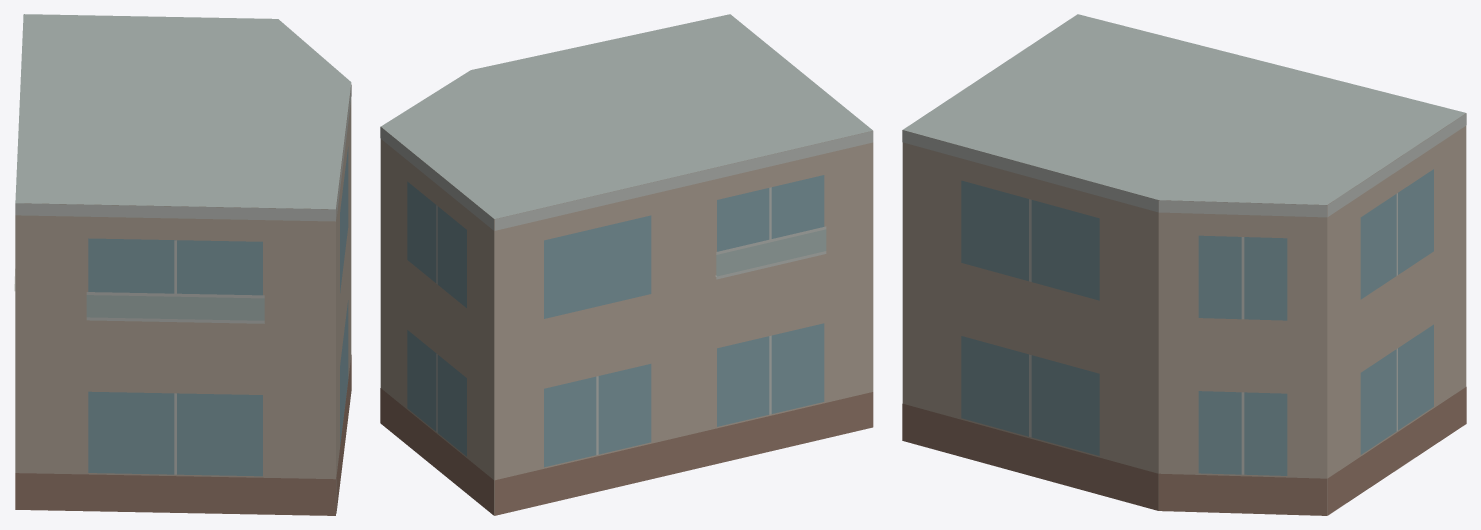
The model's file is survey-upis-32979126.glb.
3 views of the same model, side by side, from view 1: azimuth 30°, elevation 25°; view 2: azimuth 150°, elevation 25°; view 3: azimuth 270°, elevation 25° (orthographic). The views are drawn at different scales.
Parts seen in each view (by area): view 1: survey-upis-32979126.tmp; view 2: survey-upis-32979126.tmp; view 3: survey-upis-32979126.tmp.
Part boxes in pixels (x1,y1,x2,y2): survey-upis-32979126.tmp: (14, 14, 351, 515); survey-upis-32979126.tmp: (380, 14, 873, 515); survey-upis-32979126.tmp: (902, 14, 1466, 515).
Size of the model in its own units: 8.05 by 6.1 by 10.04.
